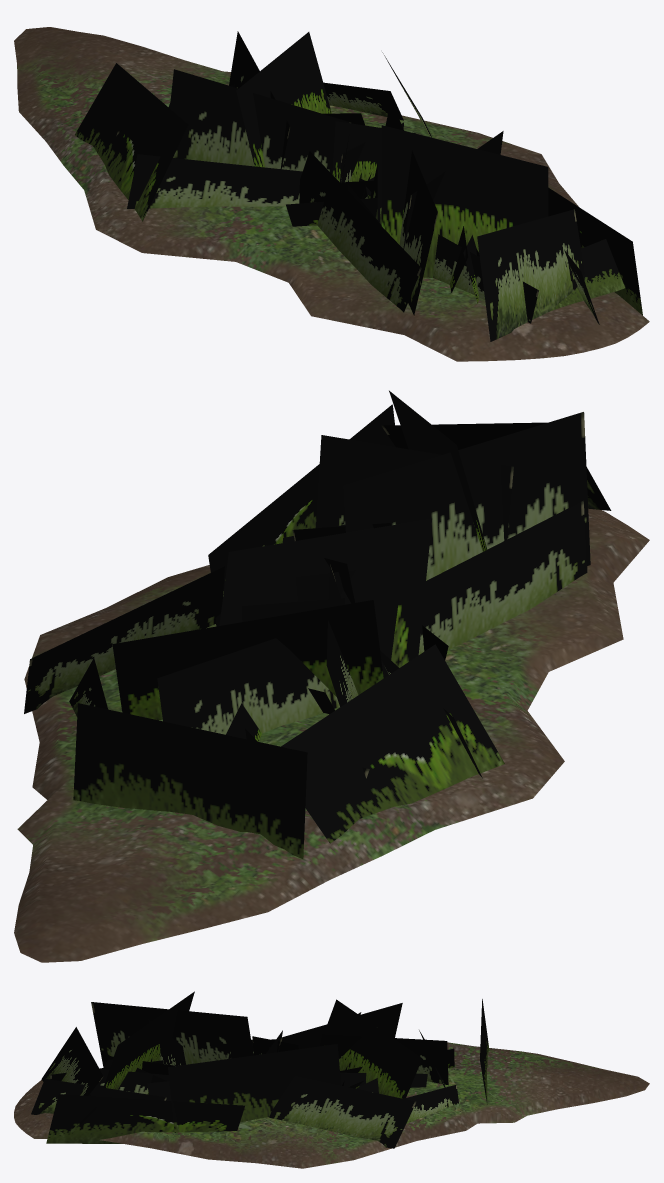
File: grass_mound.fbx
The picture shows the model from 3 angles, top to bottom: view 1: azimuth 30°, elevation 25°; view 2: azimuth 150°, elevation 25°; view 3: azimuth 270°, elevation 25°; orthographic projection. The views are drawn at different scales.
Visible parts, largest first — view 1: GrassMount, Grass5, Grass3, Grass4; view 2: Grass3, GrassMount, Grass5, Grass4; view 3: Grass5, GrassMount, Grass3, Grass4.
Boxes of the visible parts, left/top/right/bottom form: GrassMount: left=14, top=27, right=649, bottom=361; Grass5: left=299, top=100, right=642, bottom=341; Grass3: left=75, top=31, right=431, bottom=226; Grass4: left=332, top=118, right=415, bottom=222; Grass3: left=24, top=564, right=504, bottom=858; GrassMount: left=14, top=508, right=649, bottom=962; Grass5: left=208, top=390, right=611, bottom=677; Grass4: left=215, top=523, right=390, bottom=626; Grass5: left=31, top=991, right=341, bottom=1143; GrassMount: left=14, top=1042, right=649, bottom=1168; Grass3: left=269, top=999, right=489, bottom=1148; Grass4: left=228, top=1030, right=298, bottom=1058.
Size of the model in its own units: 4.34 by 1.55 by 8.59.
Materials: 2 (2 with a texture image).
